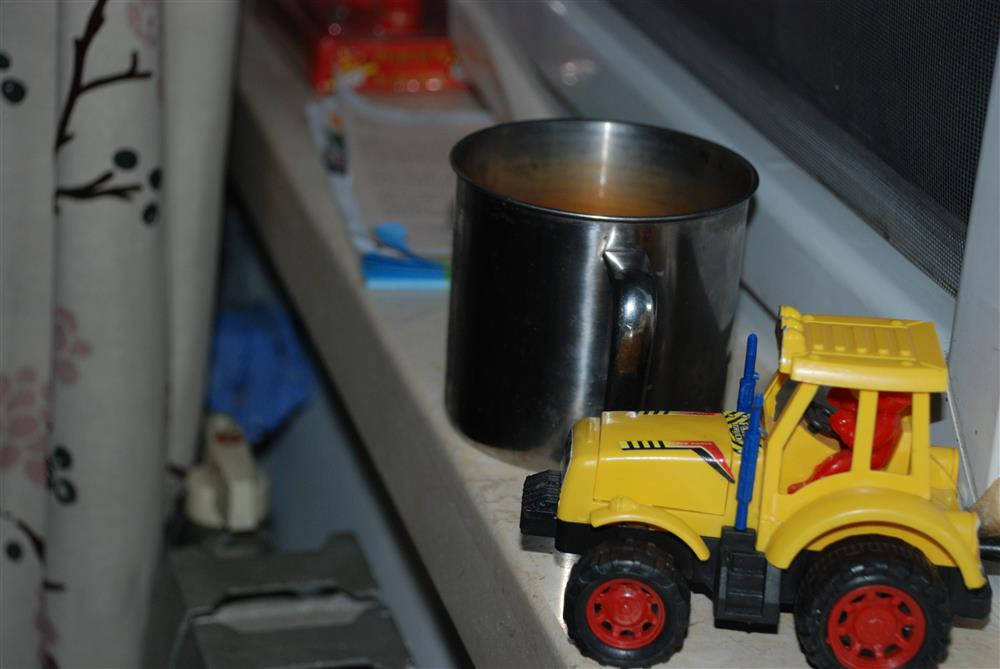toy_jeep: (520, 308, 995, 663)
